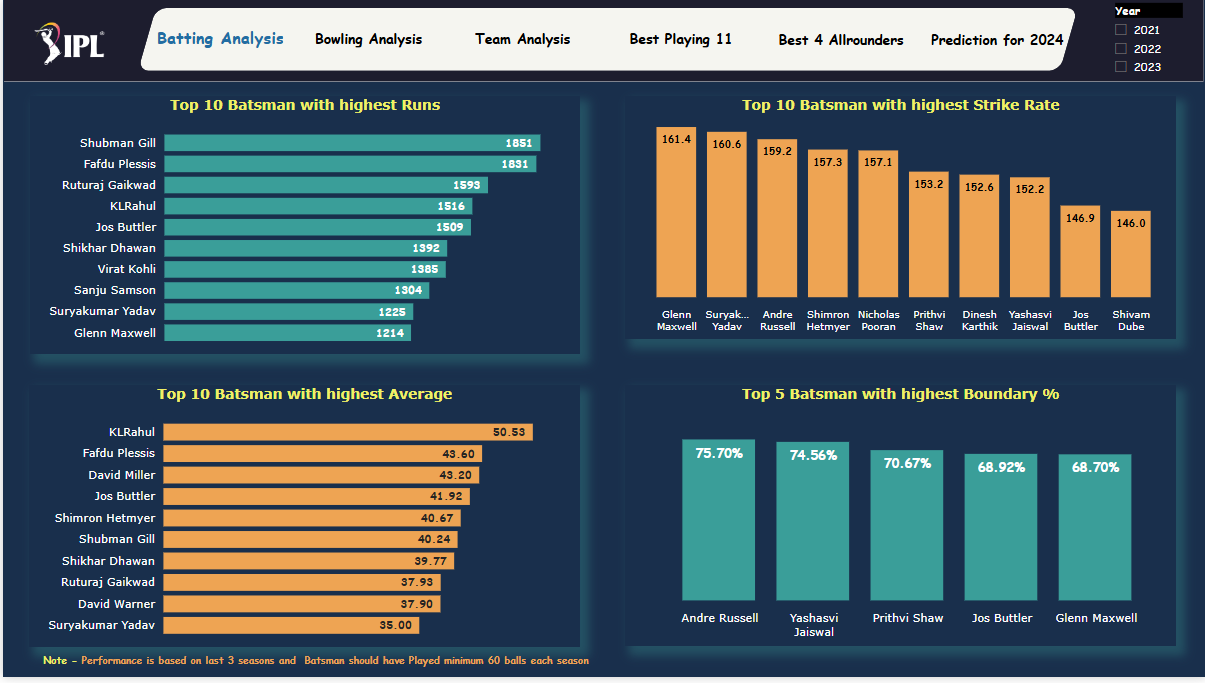

The page's visual inventory and layout, read from the dashboard file:
{"tool":"powerbi","page":{"name":"Batting Analysis","canvas":[1280,720],"ordinal":1},"visuals":[{"type":"clusteredBarChart","title":"Top 10 Batsman with highest Runs ","fields":{"Category":["fact_bating_summary.batsmanName"],"Y":["Key Metrics.Total Runs"]},"box":[28.6,101.7,584.9,275],"z":0},{"type":"clusteredBarChart","title":"Top 10 Batsman with highest Average","fields":{"Category":["fact_bating_summary.batsmanName"],"Y":["Key Metrics.Batting Average min 60 balls"]},"box":[27.9,409.4,586.2,279.2],"z":1000},{"type":"clusteredColumnChart","title":"Top 10 Batsman with highest Strike Rate","fields":{"Category":["fact_bating_summary.batsmanName"],"Y":["Key Metrics.Batting Strike min 60 balls"]},"box":[661.2,101.7,586.5,259.1],"z":2000},{"type":"columnChart","title":"Top 5 Batsman with highest Boundary %","fields":{"Category":["fact_bating_summary.batsmanName"],"Y":["Key Metrics.Boundary%"]},"box":[661.2,410.1,586.5,278.1],"z":3000},{"type":"shape","title":"Black Shape","box":[1.6,0,1276,86.6],"z":4000},{"type":"shape","title":"White shape","box":[143.2,8.5,999.7,66.8],"z":5000},{"type":"slicer","fields":{"Values":["dim_match_summary.Year"]},"box":[1168.7,0,97.7,85],"z":6000},{"type":"group","id":"g1","title":"Group 1","box":[153.4,6,988.6,68.7],"z":7000},{"type":"image","box":[28.6,15.7,84.5,61.6],"z":8000},{"type":"textbox","box":[1138.8,688.3,89.8,28.4],"z":9000},{"type":"image","box":[1207.8,688.9,40,30],"z":10000},{"type":"textbox","box":[4.3,687.1,657,32.9],"z":11000},{"type":"actionButton","title":"Button Player Ana selected","box":[153.4,6.2,155.8,66.8],"z":12500,"group":"g1"},{"type":"actionButton","title":"Button Player Ana selected","box":[309.4,6,158.9,68.7],"z":13000,"group":"g1"},{"type":"actionButton","title":"Button Player Ana selected","box":[471.1,6,163.2,67.3],"z":14000,"group":"g1"},{"type":"actionButton","title":"Button Player Ana selected","box":[634.3,6,174.6,68.7],"z":15000,"group":"g1"},{"type":"actionButton","title":"Button Player Ana selected","box":[808.3,7.8,166.1,66.8],"z":17000,"group":"g1"},{"type":"actionButton","title":"Button Player Ana selected","box":[975.1,7.7,166.9,66.8],"z":17500,"group":"g1"}]}

Visuals, with their boxes in screenshot pixels (x1, y1, x2, y2), scaled from the page's 1280x720 canvas onto the 1205x683 screenshot:
"Top 10 Batsman with highest Runs " clusteredBarChart: <box>27,96,578,357</box>
"Top 10 Batsman with highest Average" clusteredBarChart: <box>26,388,578,653</box>
"Top 10 Batsman with highest Strike Rate" clusteredColumnChart: <box>622,96,1175,342</box>
"Top 5 Batsman with highest Boundary %" columnChart: <box>622,389,1175,653</box>
"Black Shape" shape: <box>2,0,1203,82</box>
"White shape" shape: <box>135,8,1076,71</box>
slicer - dim_match_summary.Year: <box>1100,0,1192,81</box>
"Group 1" group: <box>144,6,1075,71</box>
image: <box>27,15,106,73</box>
textbox: <box>1072,653,1157,680</box>
image: <box>1137,653,1175,682</box>
textbox: <box>4,652,623,682</box>
"Button Player Ana selected" actionButton: <box>144,6,291,69</box>
"Button Player Ana selected" actionButton: <box>291,6,441,71</box>
"Button Player Ana selected" actionButton: <box>443,6,597,70</box>
"Button Player Ana selected" actionButton: <box>597,6,762,71</box>
"Button Player Ana selected" actionButton: <box>761,7,917,71</box>
"Button Player Ana selected" actionButton: <box>918,7,1075,71</box>
